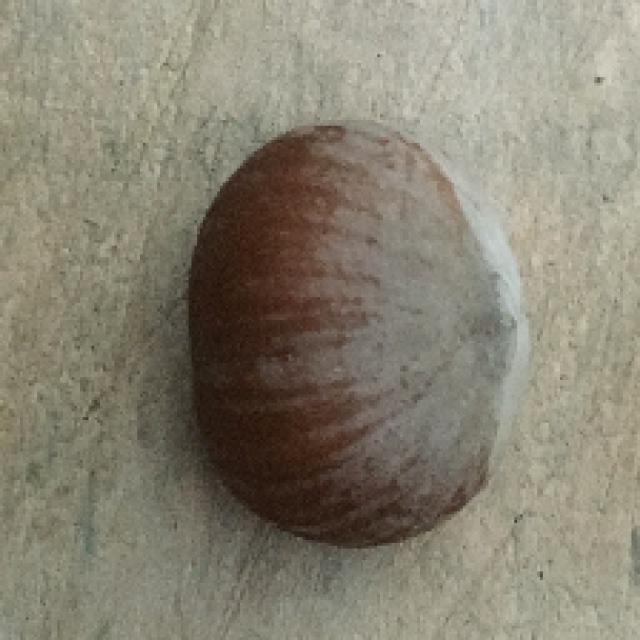qualityHazelnut: (185, 115, 524, 550)
